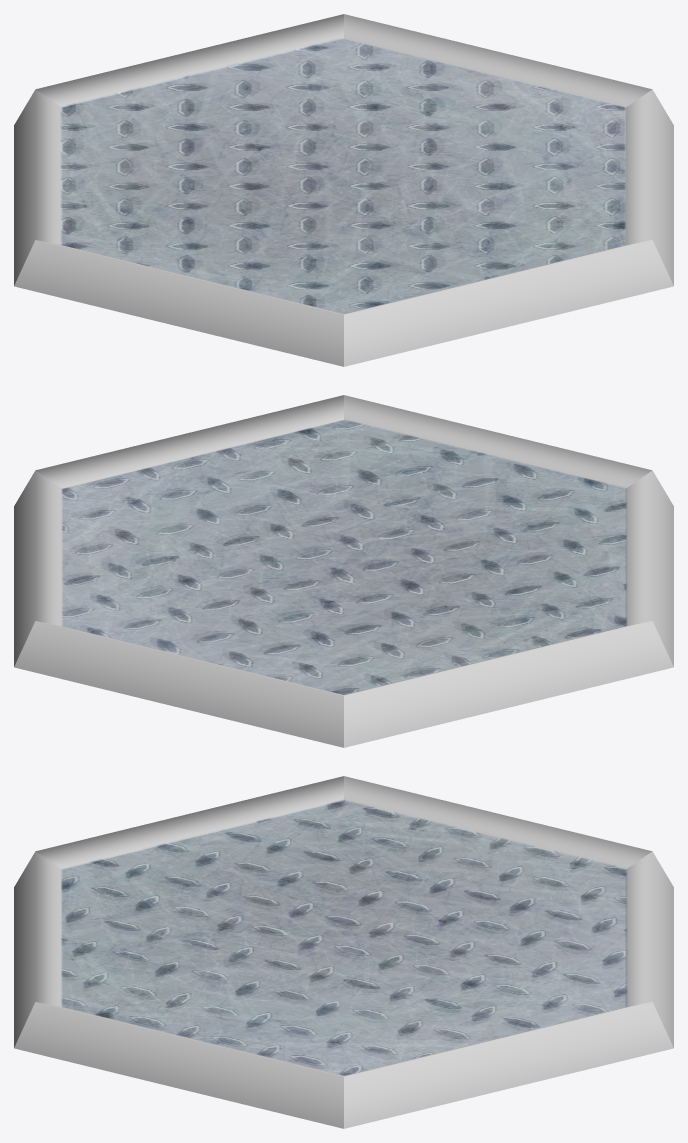
The model's file is HexShip1.fbx.
The picture shows the model from 3 angles, top to bottom: view 1: azimuth 30°, elevation 25°; view 2: azimuth 150°, elevation 25°; view 3: azimuth 270°, elevation 25°; orthographic projection.
Parts seen in each view (by area): view 1: HexShip1; view 2: HexShip1; view 3: HexShip1.
Boxes of the visible parts, x1,y1,x2,y2 form: HexShip1: (14,14,673,366); HexShip1: (14,395,673,747); HexShip1: (14,776,673,1128).
Bounding box in the file's own units: 2 × 0.1195 × 1.73.
1 material, 1 textured.
